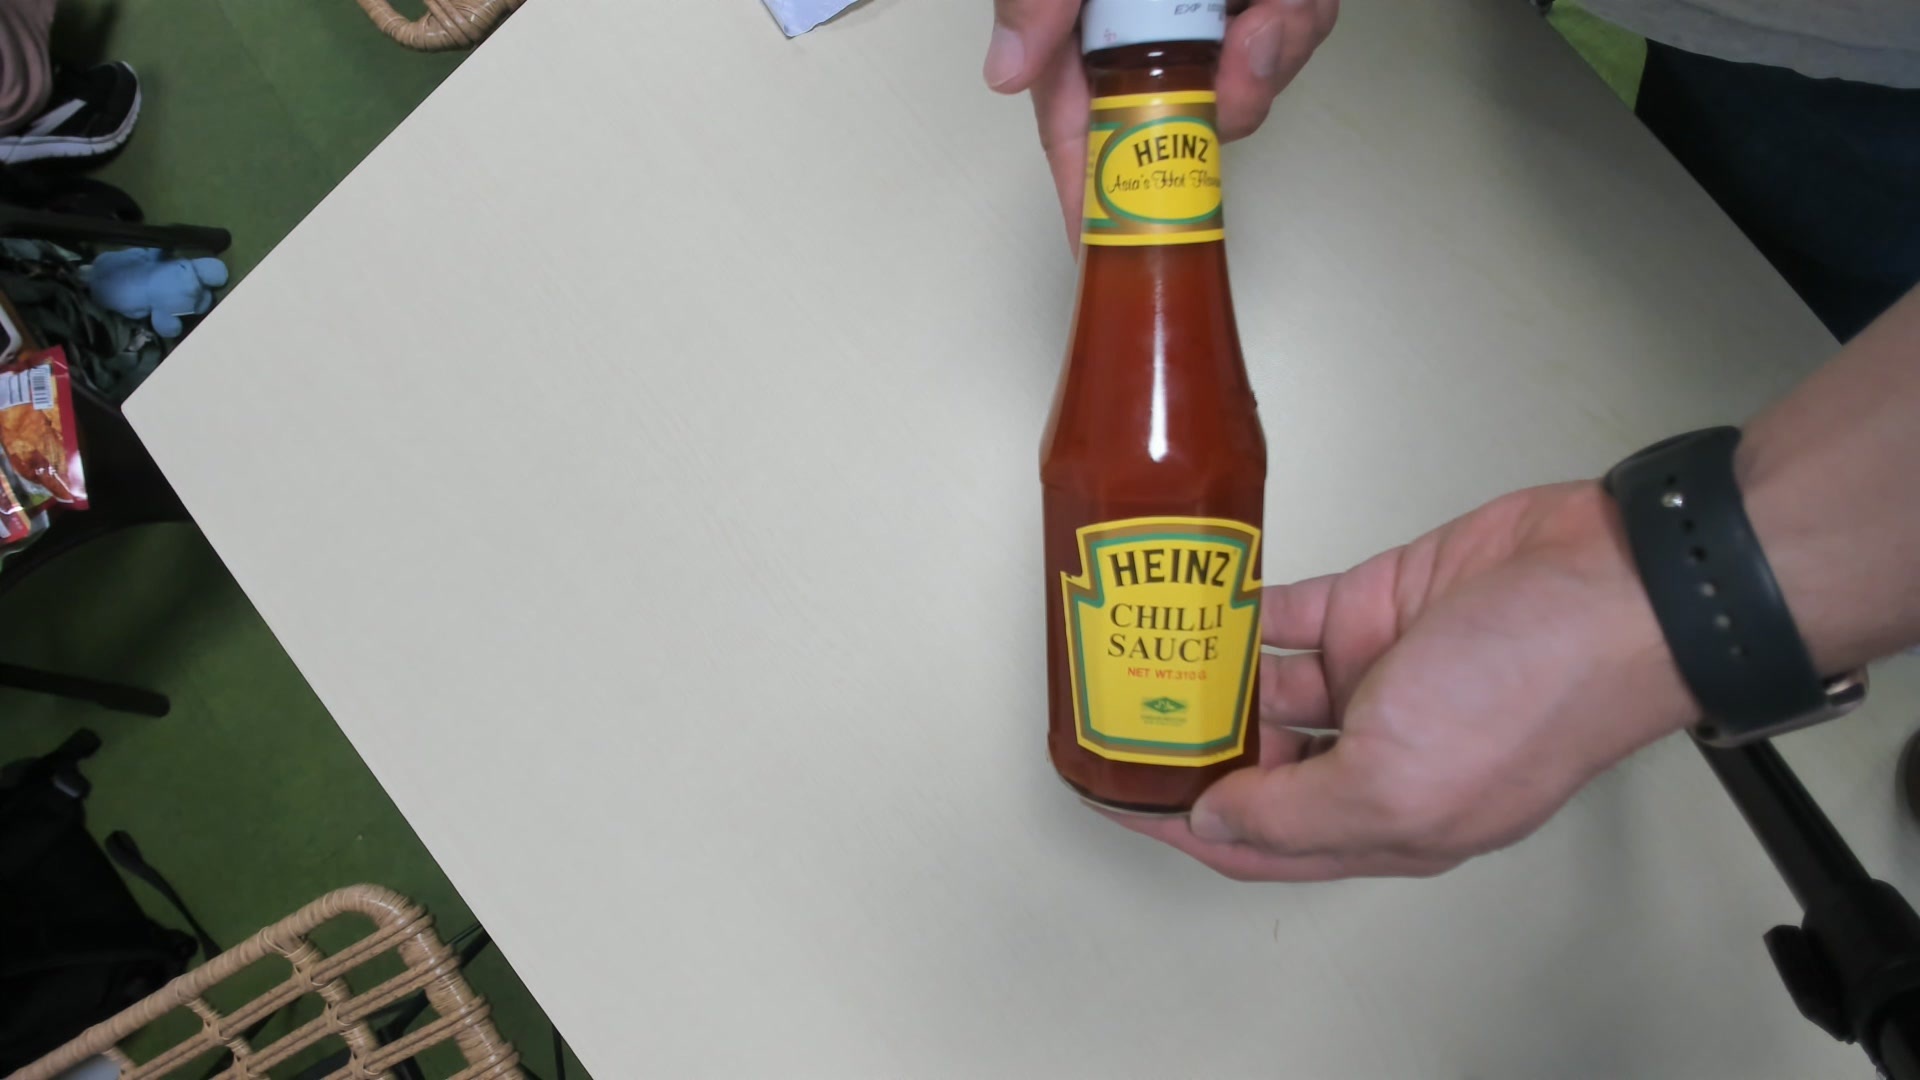KetchupChillSauce_300-399g_Halal_NonHealthy: (1025, 1, 1274, 820)
